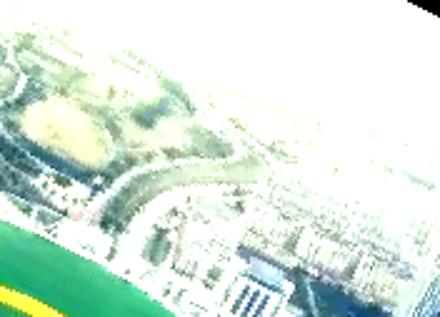Apron: (1, 276, 88, 317)
